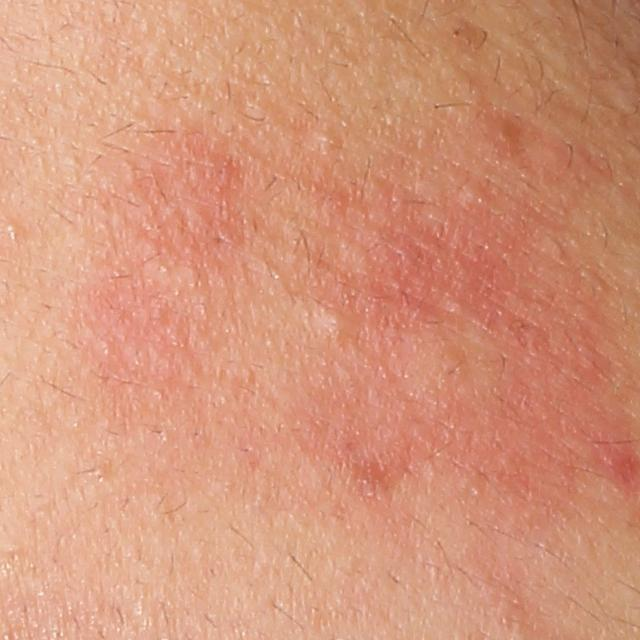comedo: (313, 126, 336, 150), (4, 219, 20, 237)
